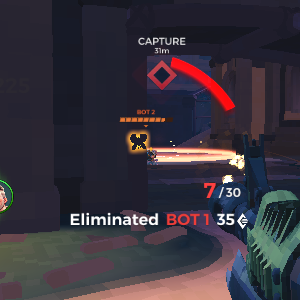model: (128, 131, 149, 152)
